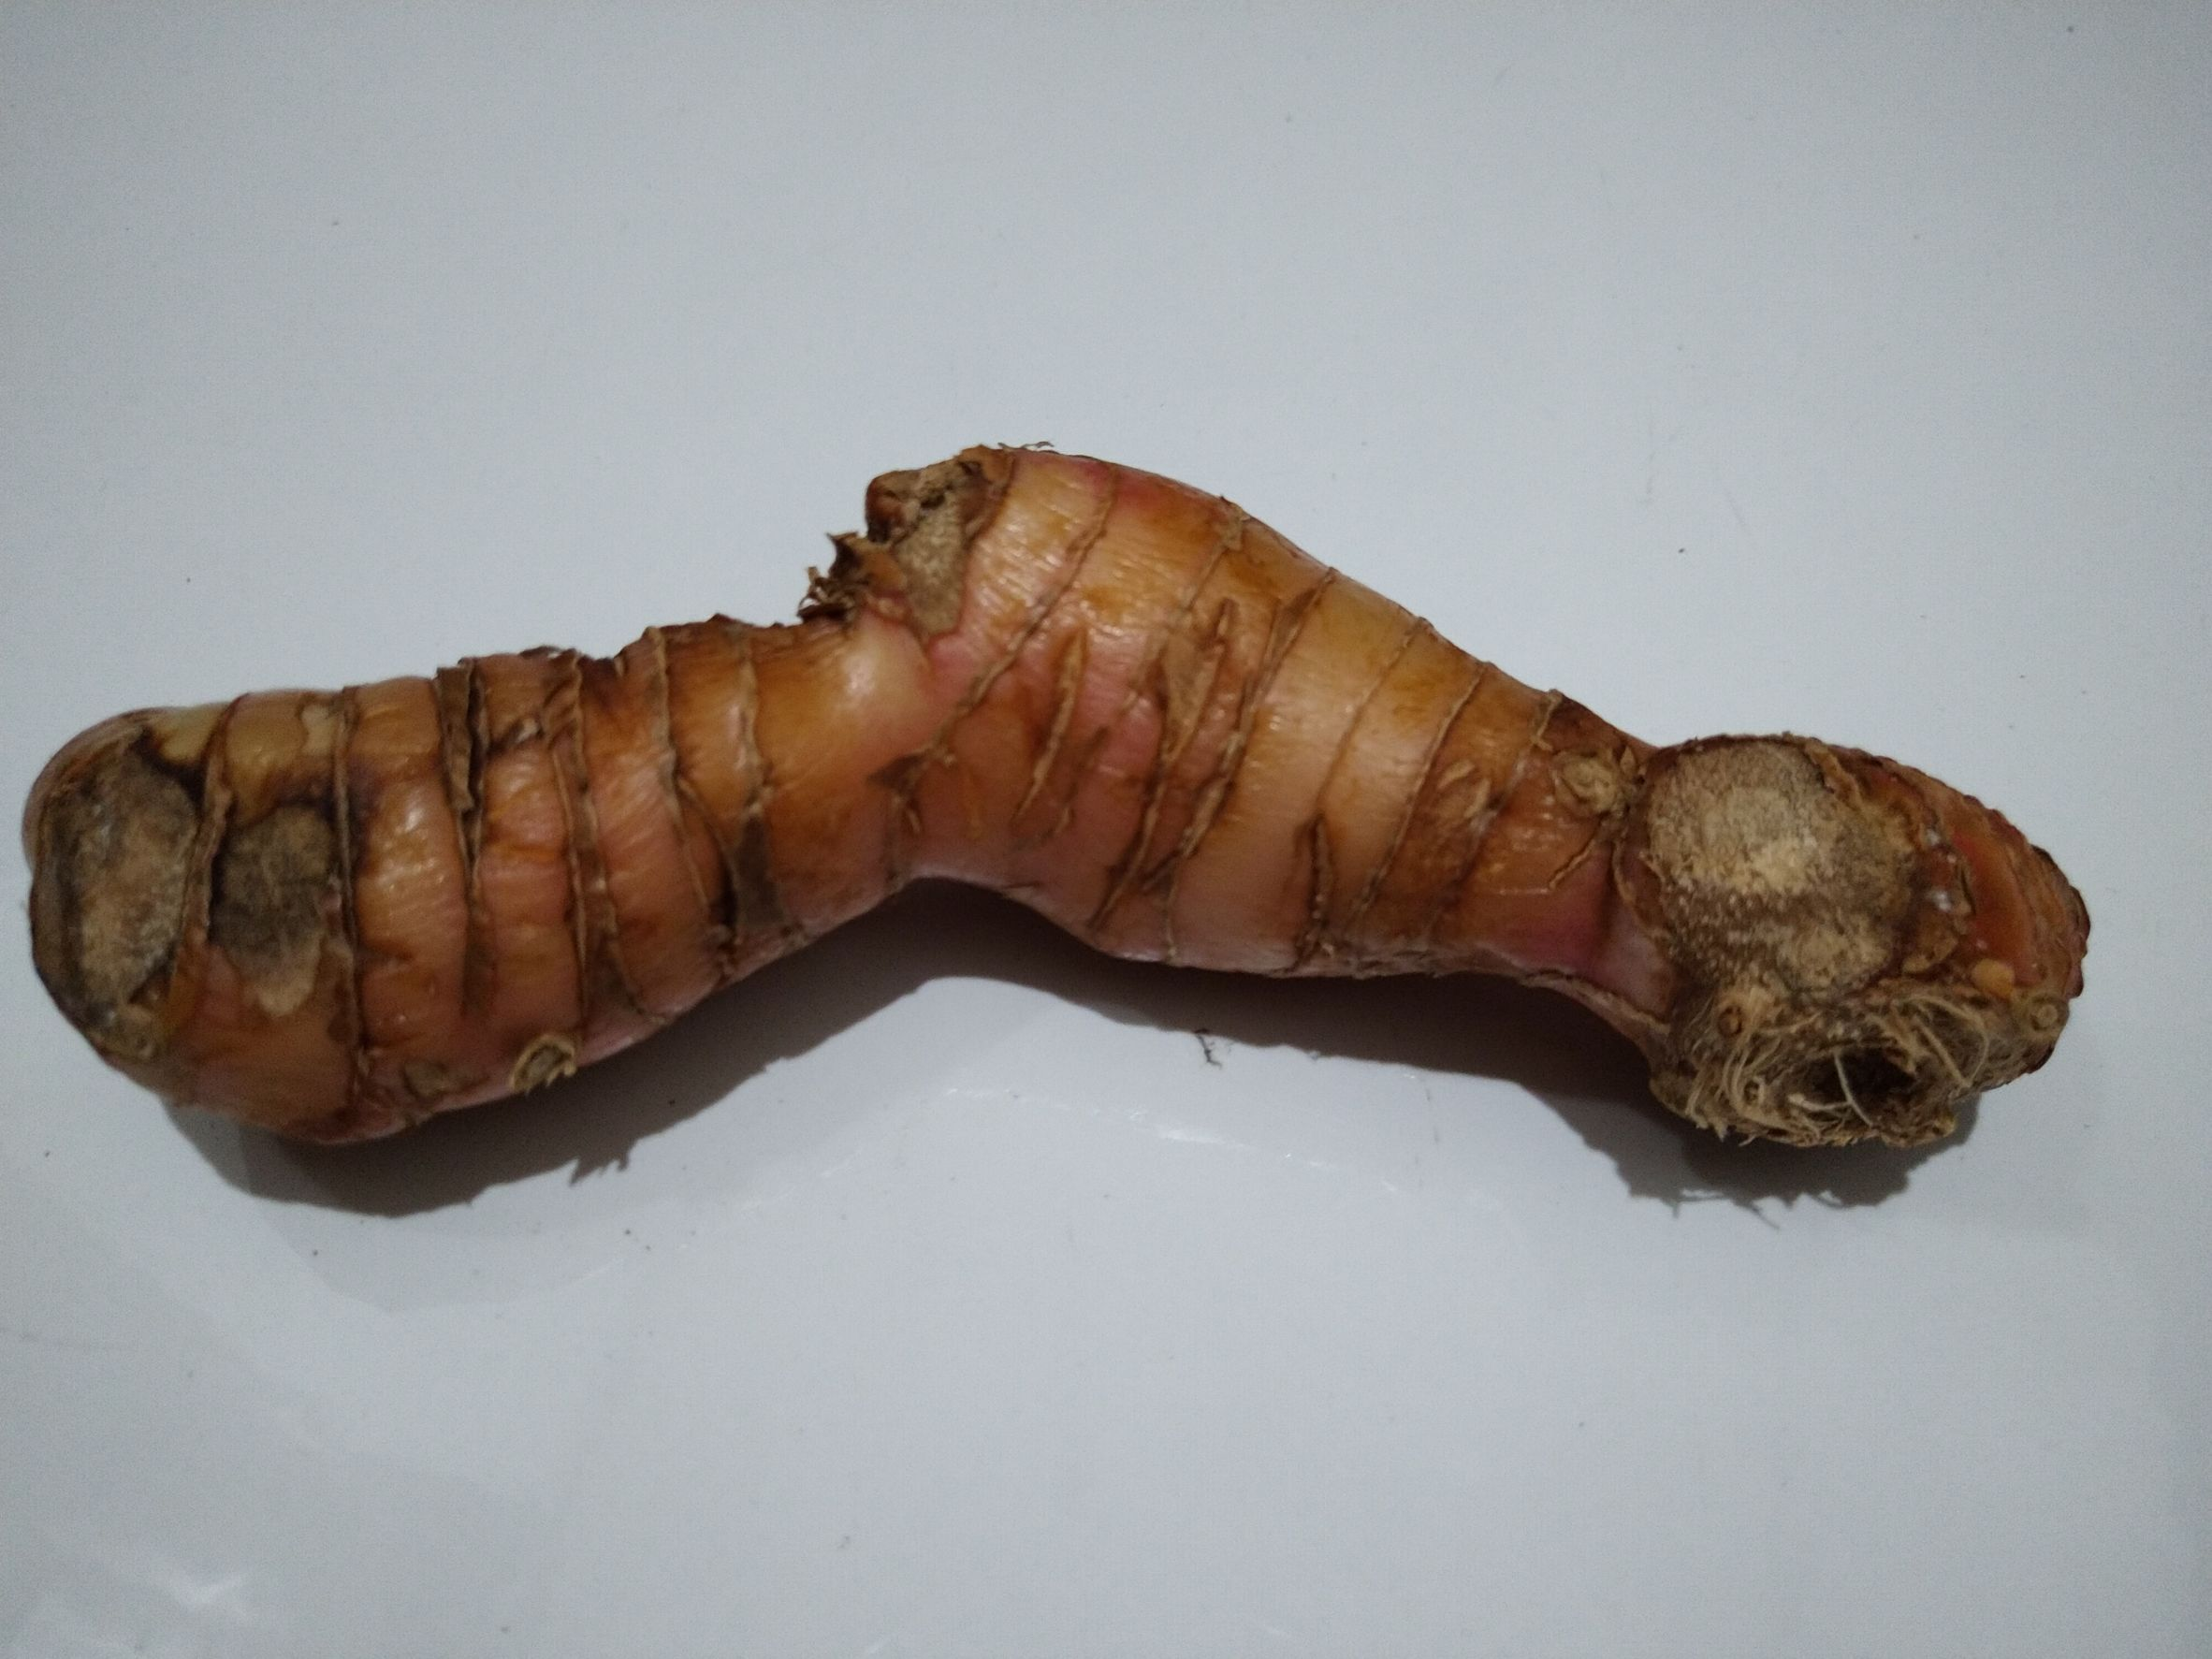Lengkuas: (24, 439, 2104, 1229)
